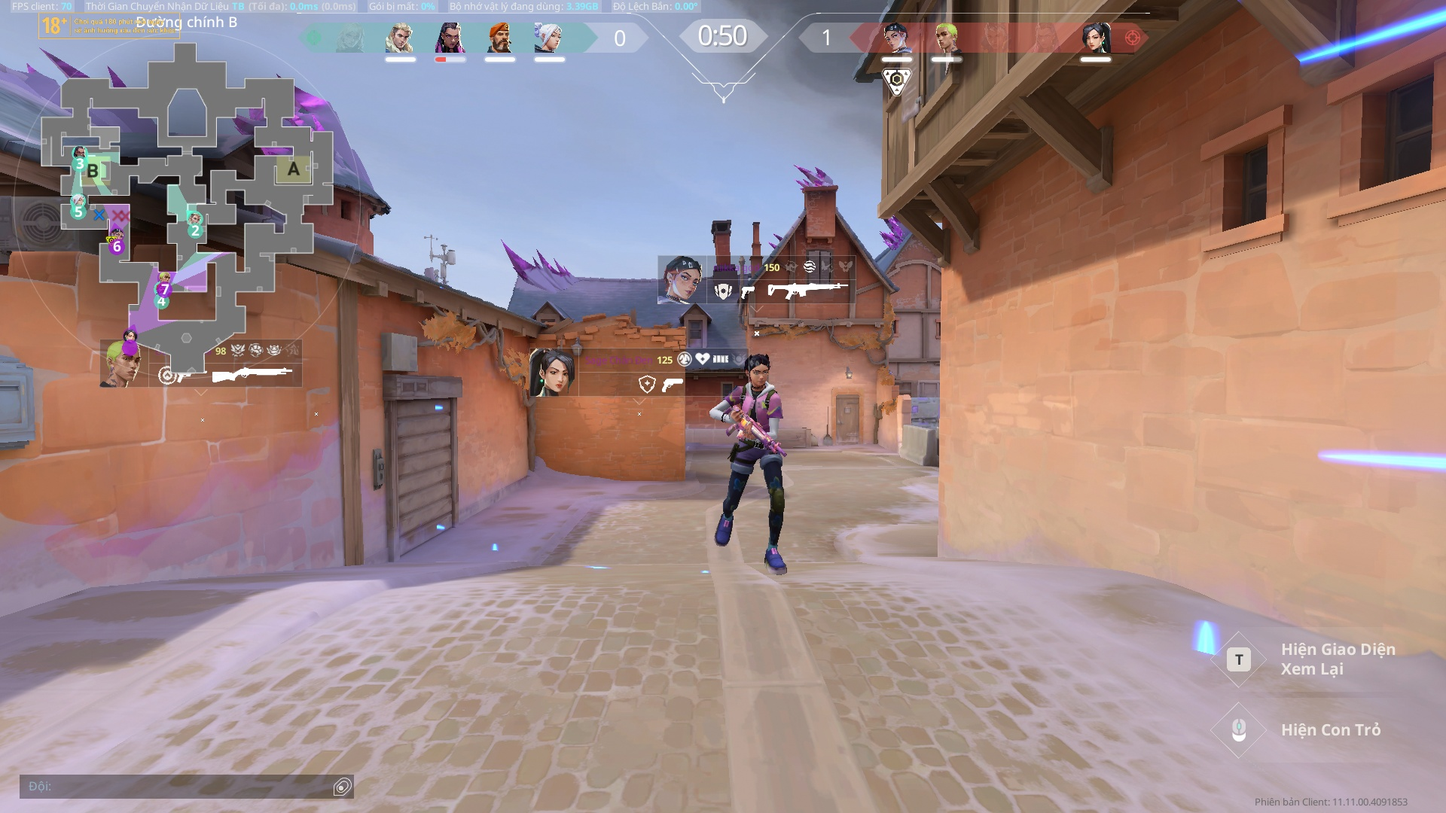body: (735, 382, 782, 437)
head: (746, 354, 773, 385)
